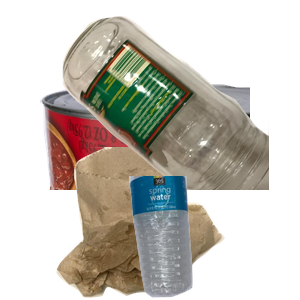glass: (60, 14, 300, 194)
metal: (37, 81, 277, 261)
plastic: (127, 176, 300, 300)
trash: (54, 147, 271, 300)
